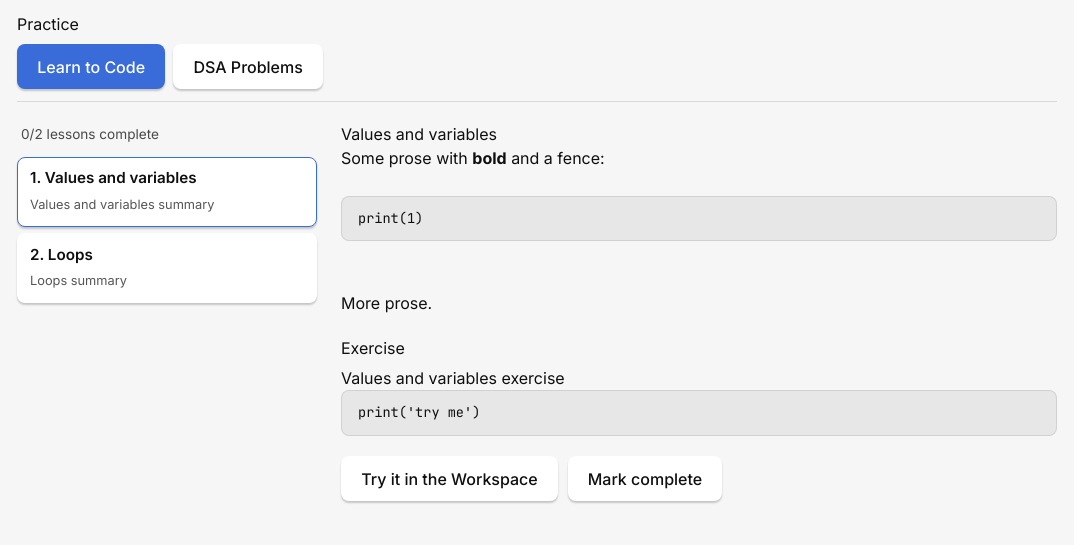
Scenario: PracticeView — Learn tab › keeps the course visible when starting an exercise fails
Click the button "Try it in the Workspace" at x=449, y=479, box [341,456,558,501]
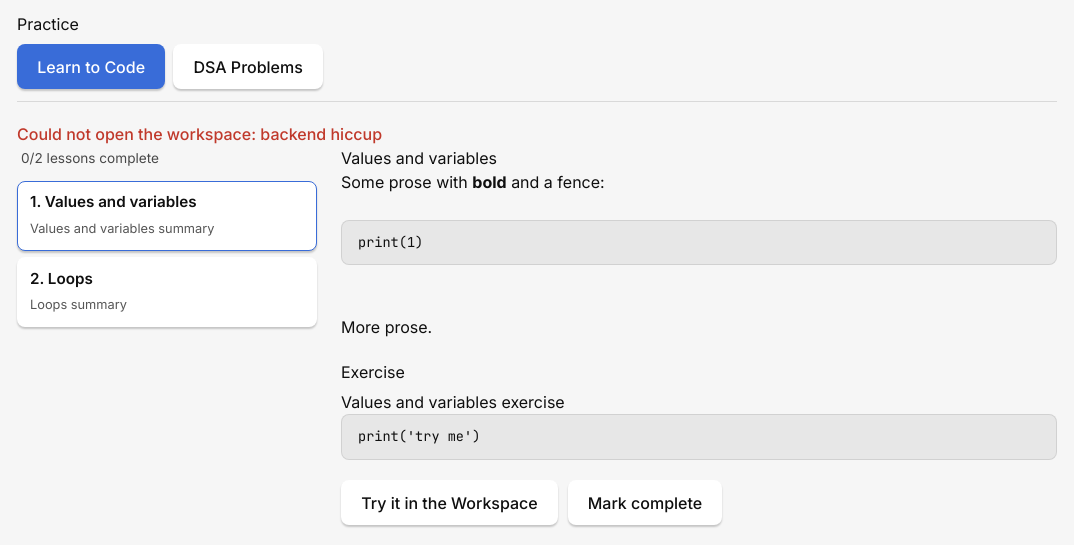
Expected: the text "1. Values and variables" is shown, [30,190,197,214]
Result: the text "Could not open the workspace: backend hiccup" is shown at [17,124,382,144]
